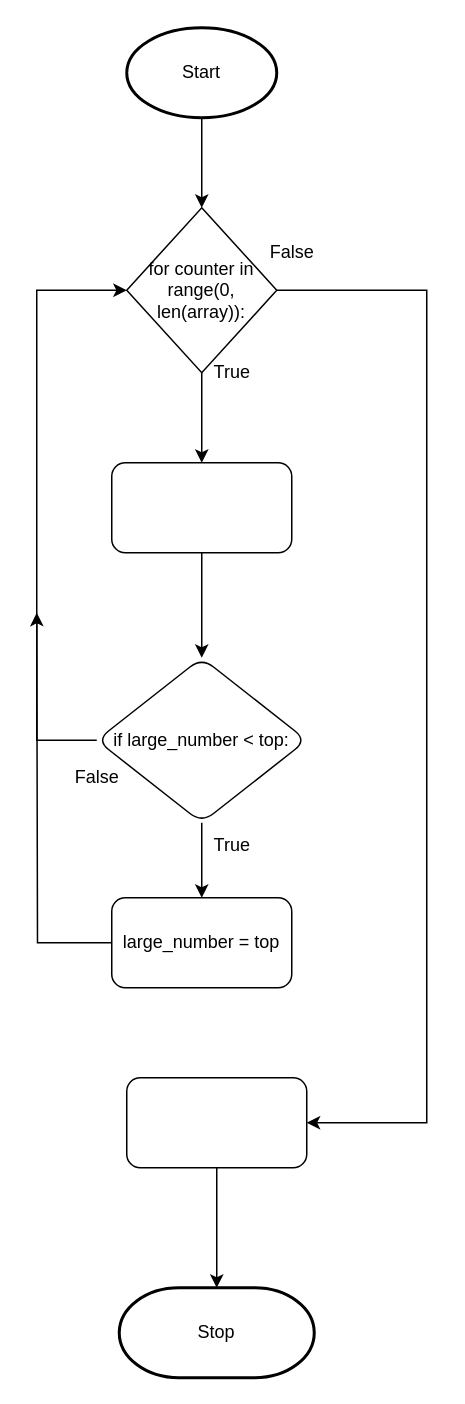
The diagram is 465 pixels wide and 1404 high, and some of its shapes have lost their labels. Each missing label, with the box of its shape:
Return large_number: (125, 1076, 307, 1168)
top = array[counter]: (110, 461, 292, 553)
